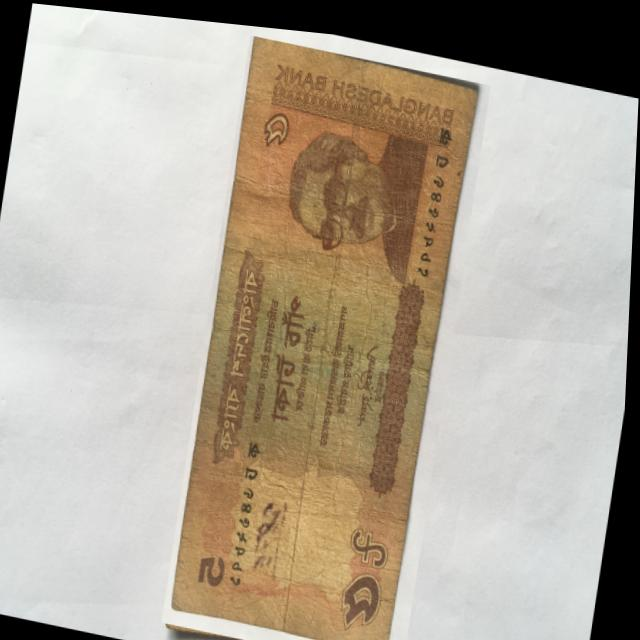Taka: (166, 24, 492, 640)
